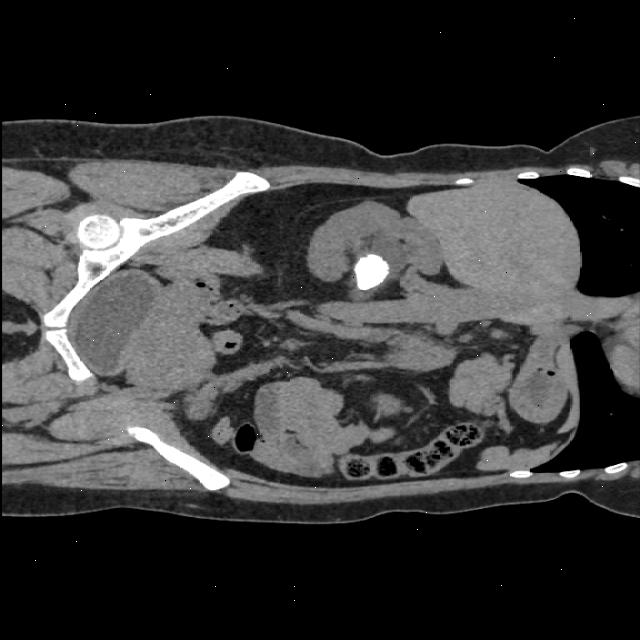kidneystone: (355, 254, 388, 290)
